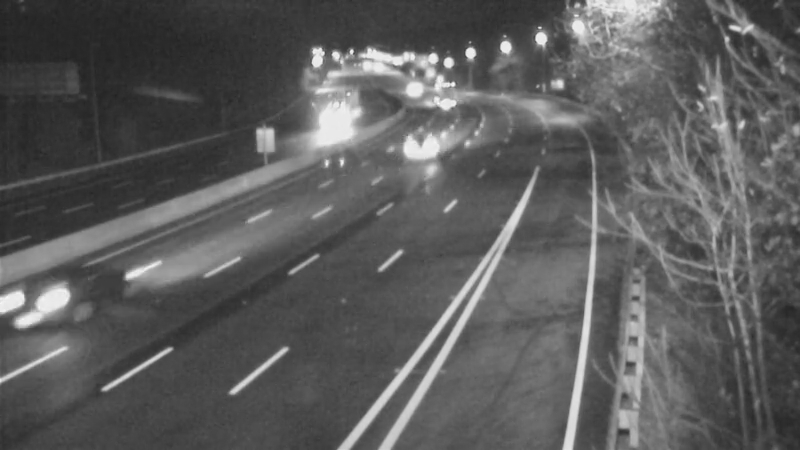vehicle: (19, 248, 99, 328), (378, 63, 428, 113), (413, 66, 463, 116), (398, 121, 448, 171), (313, 102, 363, 152)
